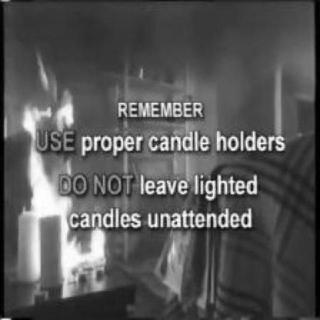Fire: (11, 55, 105, 279)
